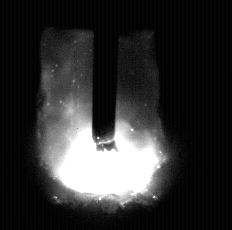arame: (93, 0, 117, 151)
poca: (37, 0, 165, 230)
